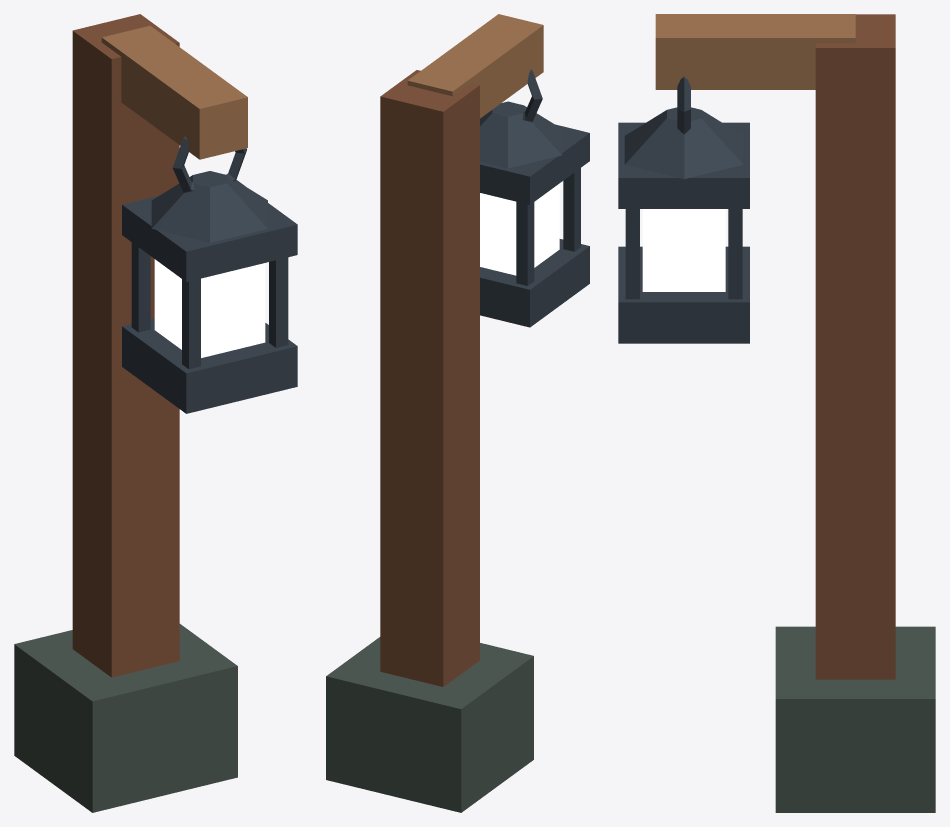
Rendered from mine_lamp.glb.
3 views of the same model, side by side, from view 1: azimuth 30°, elevation 25°; view 2: azimuth 150°, elevation 25°; view 3: azimuth 270°, elevation 25° (orthographic). The views are drawn at different scales.
Visible parts, largest first — view 1: geometry, glow-lantern; view 2: geometry, glow-lantern; view 3: geometry, glow-lantern.
Boxes of the visible parts, bbox=[...] form: geometry: bbox=[14, 14, 297, 812]; glow-lantern: bbox=[154, 259, 265, 357]; geometry: bbox=[326, 14, 589, 812]; glow-lantern: bbox=[480, 183, 559, 275]; geometry: bbox=[618, 14, 935, 812]; glow-lantern: bbox=[642, 209, 725, 291].
Size of the model in its own units: 0.3 by 1.45 by 0.555.
